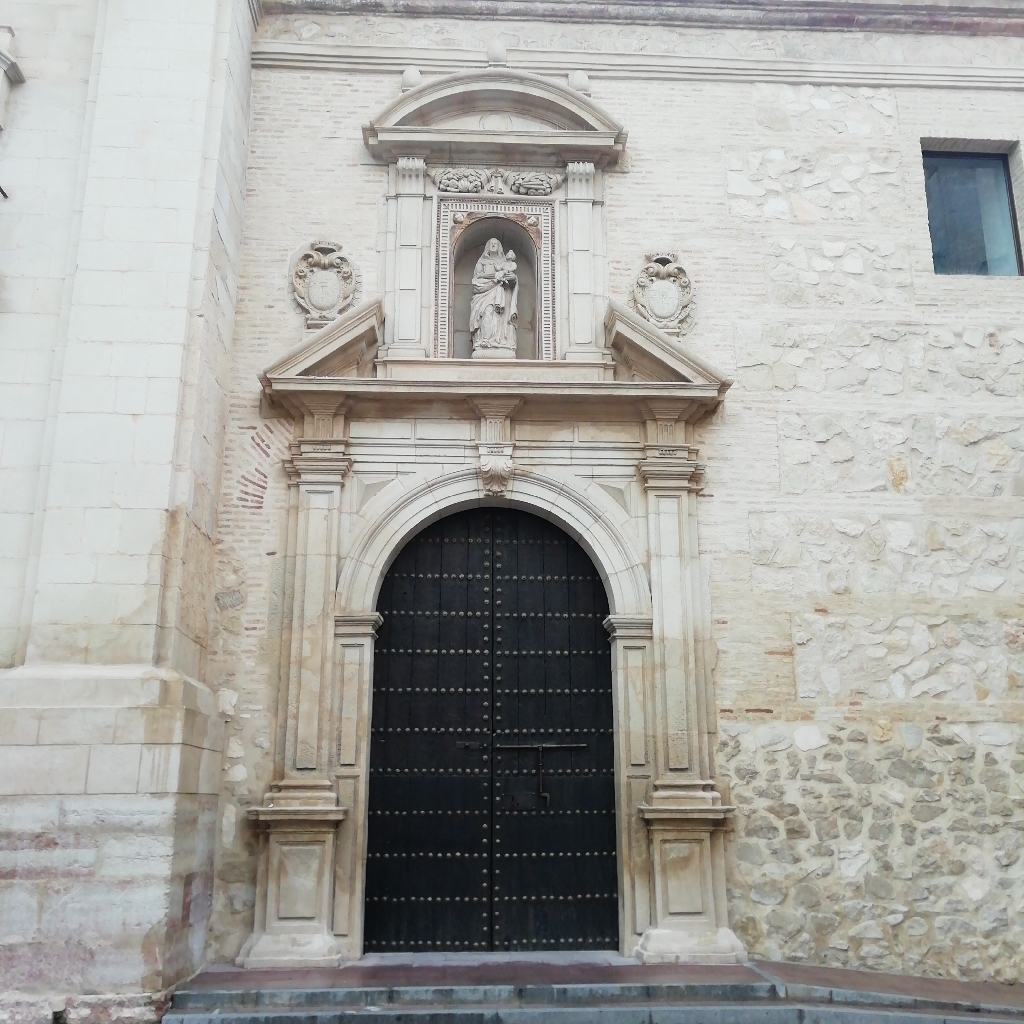arco-medio-punto: (359, 481, 629, 659), (446, 214, 543, 261)
fronton-curvo: (369, 71, 629, 168)
fronton-partido: (256, 297, 730, 413)
